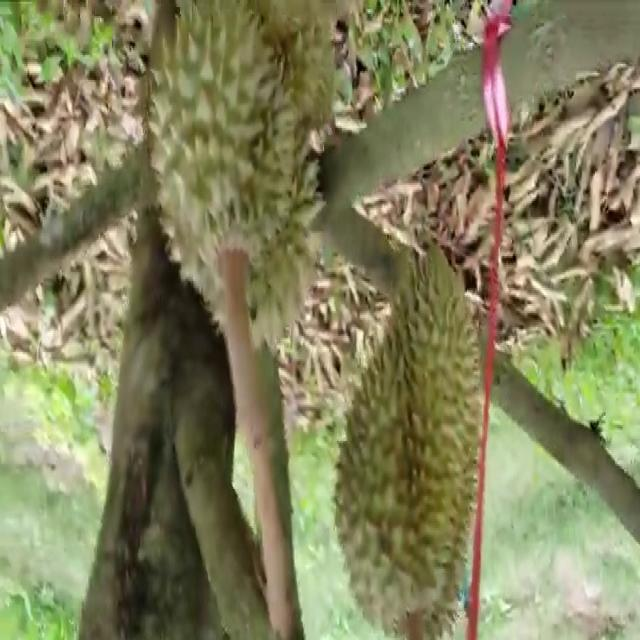durian: (146, 4, 341, 357), (329, 235, 485, 640)
